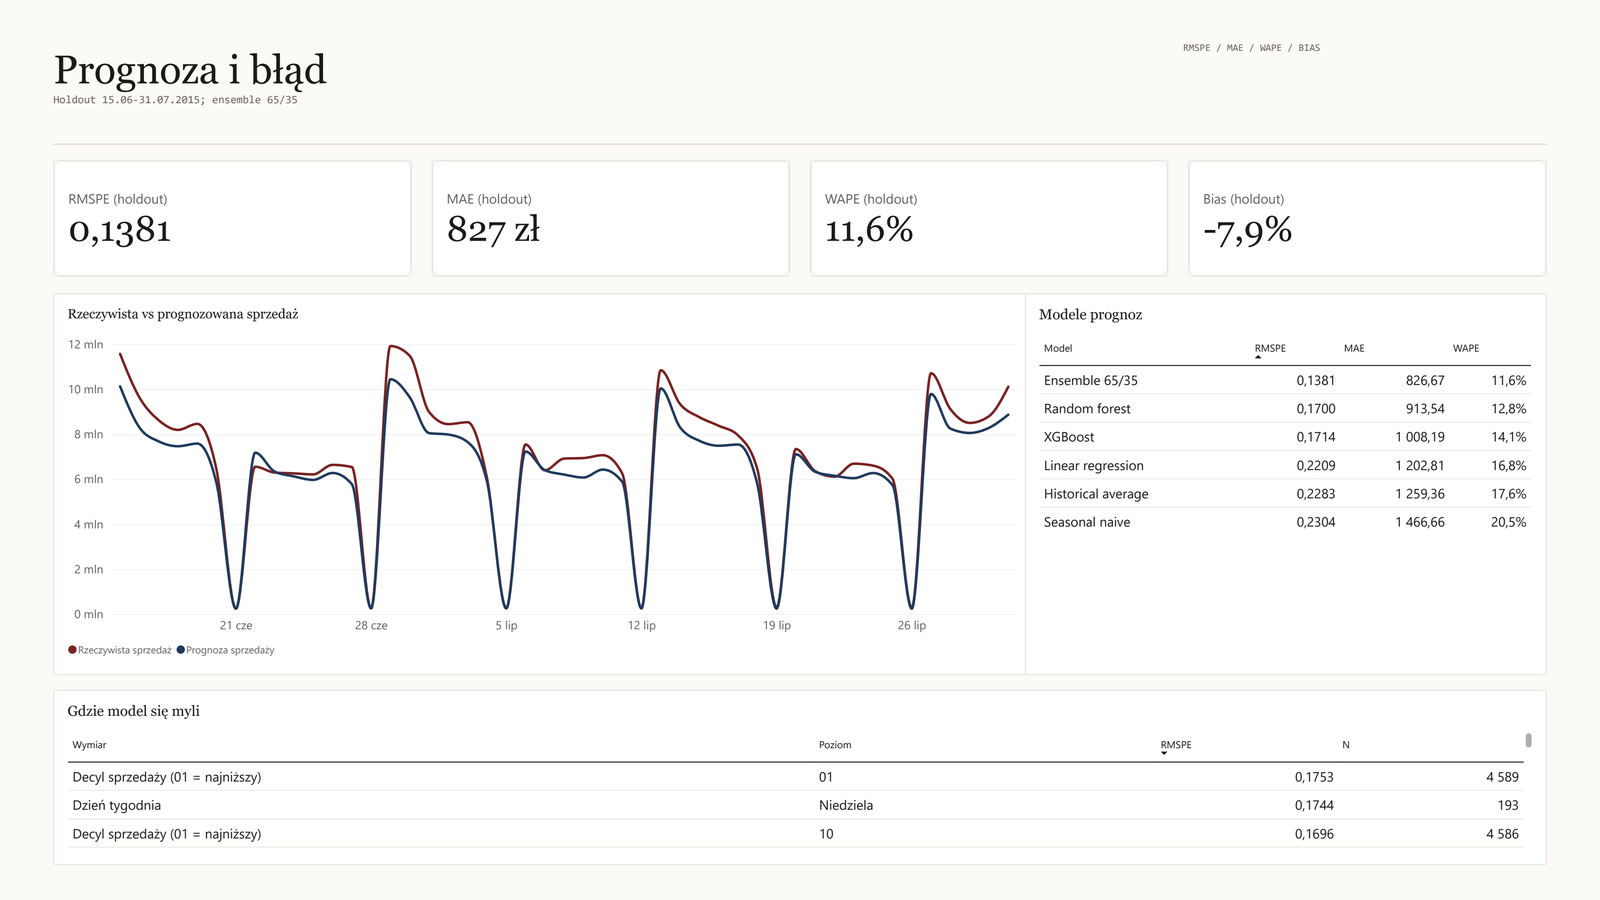

What the dashboard file says about the page in this screenshot:
{"tool":"powerbi","page":{"name":"Prognoza","canvas":[1920,1080],"ordinal":2},"visuals":[{"type":"textbox","box":[64,40,1150,110],"z":0},{"type":"textbox","box":[1420,48,436,80],"z":1000},{"type":"shape","box":[64,172,1792,2],"z":2000},{"type":"cardVisual","fields":{"Data":["_Miary.RMSPE (holdout)"]},"box":[64,192,430,140],"z":3000},{"type":"cardVisual","fields":{"Data":["_Miary.MAE (holdout)"]},"box":[518,192,430,140],"z":4000},{"type":"cardVisual","fields":{"Data":["_Miary.WAPE (holdout)"]},"box":[972,192,430,140],"z":5000},{"type":"cardVisual","fields":{"Data":["_Miary.Bias (holdout)"]},"box":[1426,192,430,140],"z":6000},{"type":"lineChart","title":"Rzeczywista vs prognozowana sprzedaż","fields":{"Category":["Dim_Data.Date"],"Y":["_Miary.Rzeczywista sprzedaż","_Miary.Prognoza sprzedaży"]},"box":[64.2,351.6,1180,458],"z":7000},{"type":"textbox","box":[1280,352,576,458],"z":8000},{"type":"tableEx","title":"Modele prognoz","fields":{"Values":["Fakt_ModeleHoldout.Model","Fakt_ModeleHoldout.RMSPE","Fakt_ModeleHoldout.MAE","Fakt_ModeleHoldout.WAPE"]},"box":[1230,352,626,458],"z":9000},{"type":"tableEx","title":"Gdzie model się myli","fields":{"Values":["Fakt_Bledy.Dimension","Fakt_Bledy.Level","Fakt_Bledy.RMSPE","Fakt_Bledy.N"]},"box":[64,828,1792,210],"z":9000}]}

Visuals, with their boxes in screenshot pixels (x1, y1, x2, y2), scaled from the page's 1920x1080 canvas onto the 1600x900 screenshot:
textbox: <region>53, 33, 1012, 125</region>
textbox: <region>1183, 40, 1547, 107</region>
shape: <region>53, 143, 1547, 145</region>
cardVisual - _Miary.RMSPE (holdout): <region>53, 160, 412, 277</region>
cardVisual - _Miary.MAE (holdout): <region>432, 160, 790, 277</region>
cardVisual - _Miary.WAPE (holdout): <region>810, 160, 1168, 277</region>
cardVisual - _Miary.Bias (holdout): <region>1188, 160, 1547, 277</region>
"Rzeczywista vs prognozowana sprzedaż" lineChart: <region>54, 293, 1037, 675</region>
textbox: <region>1067, 293, 1547, 675</region>
"Modele prognoz" tableEx: <region>1025, 293, 1547, 675</region>
"Gdzie model się myli" tableEx: <region>53, 690, 1547, 865</region>
